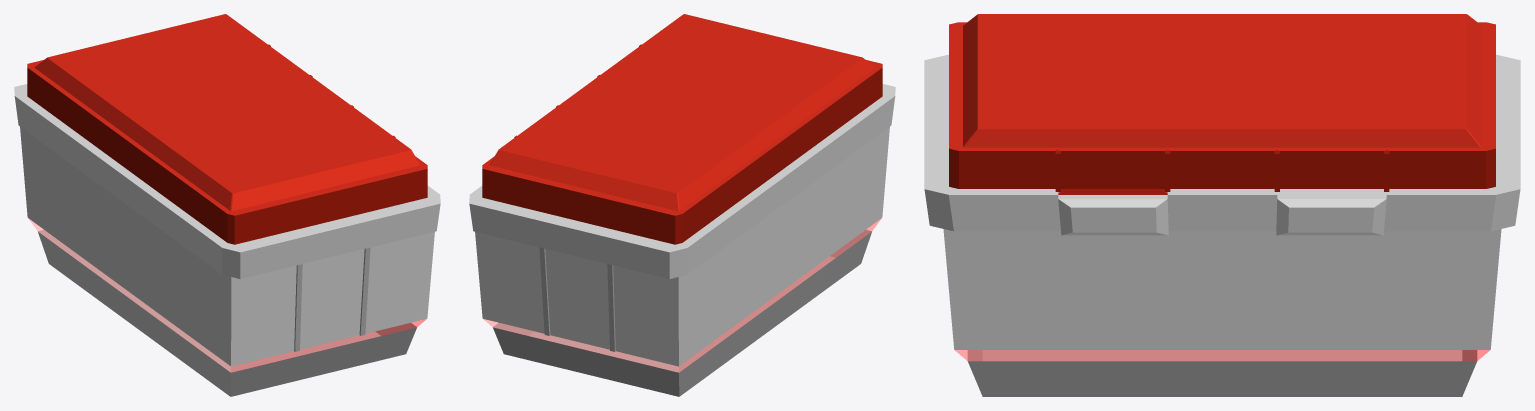
File: Medkit.fbx
3 views of the same model, side by side, from view 1: azimuth 30°, elevation 25°; view 2: azimuth 150°, elevation 25°; view 3: azimuth 270°, elevation 25° (orthographic). The views are drawn at different scales.
Visible parts, largest first — view 1: Cube.001; view 2: Cube.001; view 3: Cube.001.
Boxes of the visible parts, x1=… form: Cube.001: x1=14, y1=14, x2=440, y2=396; Cube.001: x1=469, y1=14, x2=895, y2=396; Cube.001: x1=924, y1=14, x2=1520, y2=396.
Size of the model in its own units: 60 by 35 by 30.
